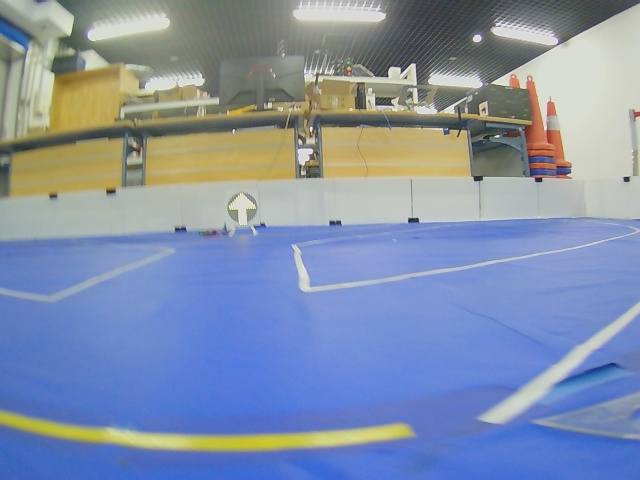straight_yellow: (227, 192, 257, 226)
